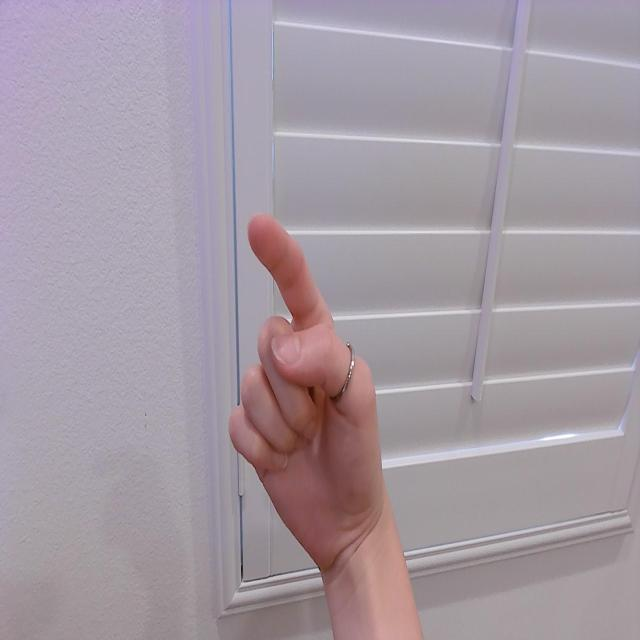Z: (227, 208, 383, 566)
